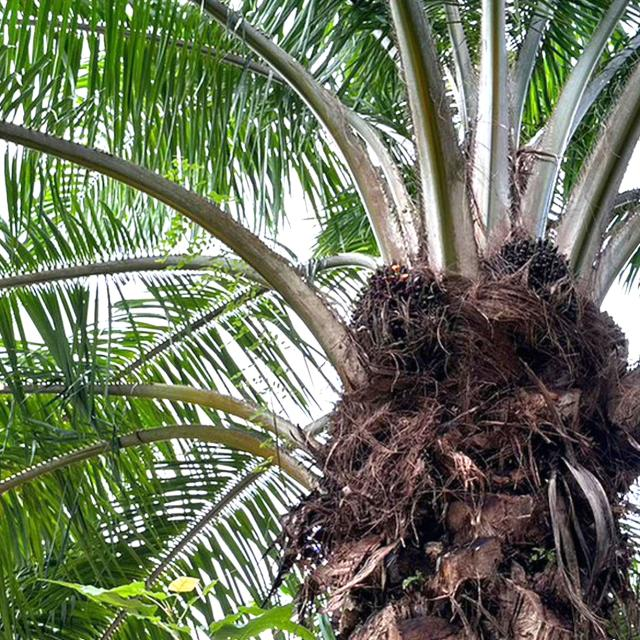almost: (346, 256, 449, 380), (486, 228, 577, 323)
